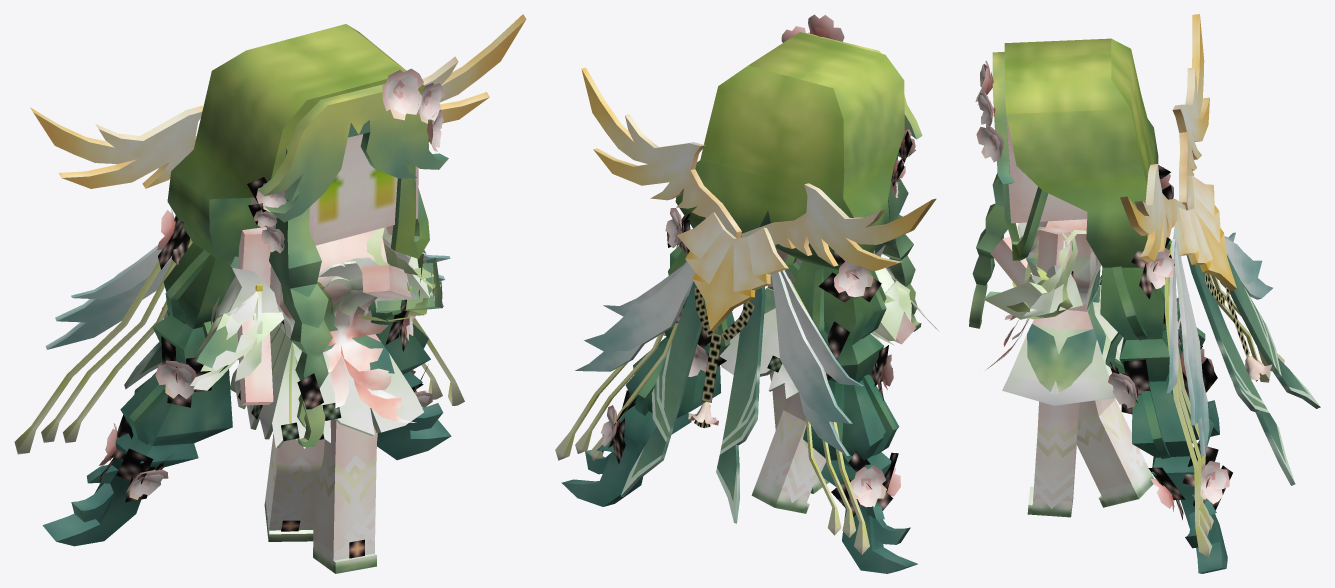
File: idun_statue.glb
3 renders of one model, left to right at view 1: azimuth 30°, elevation 25°; view 2: azimuth 150°, elevation 25°; view 3: azimuth 270°, elevation 25°, orthographic. The views are drawn at different scales.
Parts seen in each view (by area): view 1: statue_idun; view 2: statue_idun; view 3: statue_idun.
Part boxes in pixels (box(x1,y1,x2,y2)): statue_idun: box(14, 14, 526, 573); statue_idun: box(555, 14, 939, 573); statue_idun: box(969, 14, 1320, 573).
Bounding box in the file's own units: 11.23 × 12.25 × 8.6.
1 material, 1 textured.
